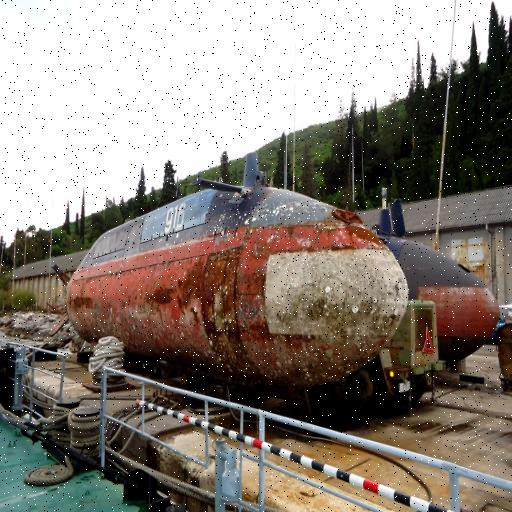submarine: (52, 154, 406, 397), (273, 173, 504, 362)
